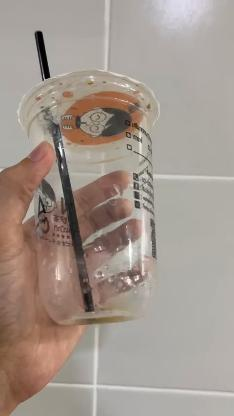Plastic Cup: (16, 68, 160, 328)
